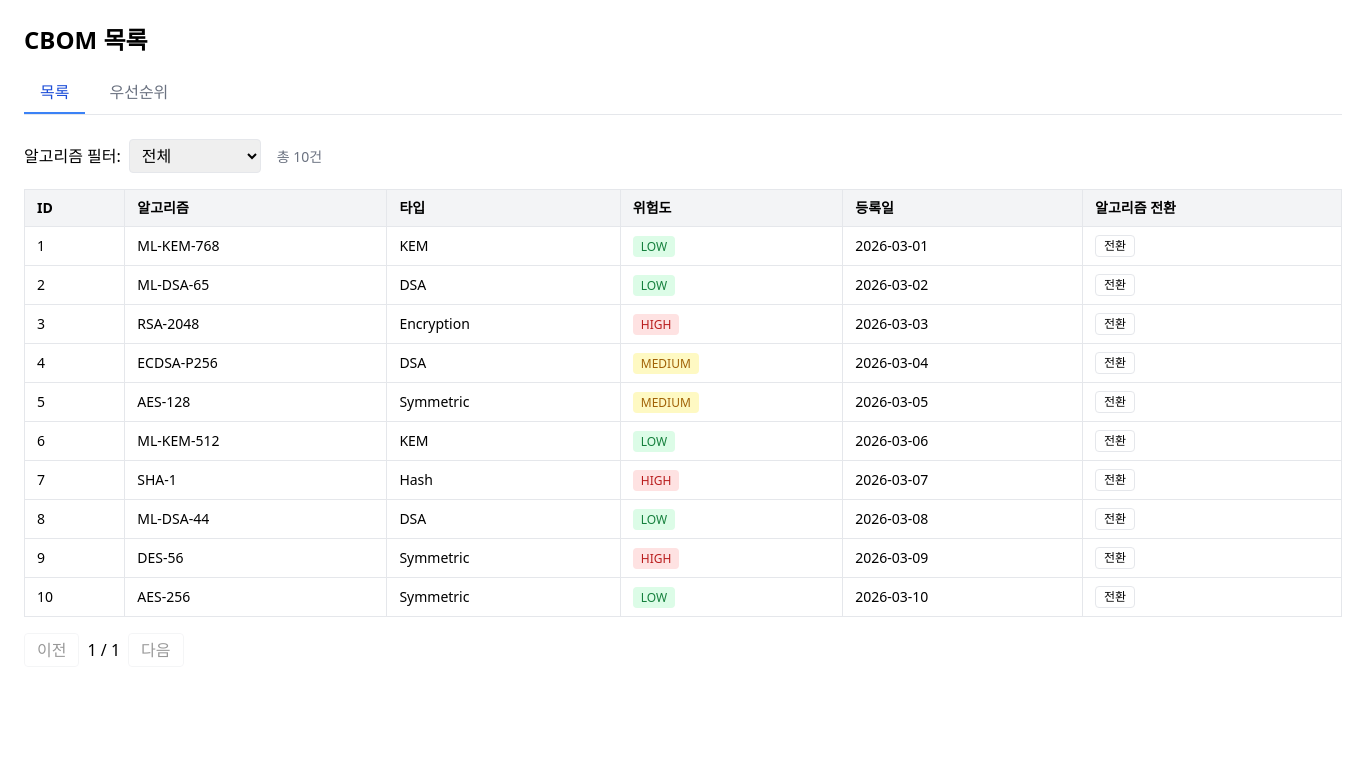
Test: CbomPage › 알고리즘 필터 적용 시 해당 항목만 표시
Expected: the text "총 10건" is shown, 277,147 -> 322,166
Select "ML-KEM-768" in the dropdown: coordinates (195, 156) 129,139 -> 261,173
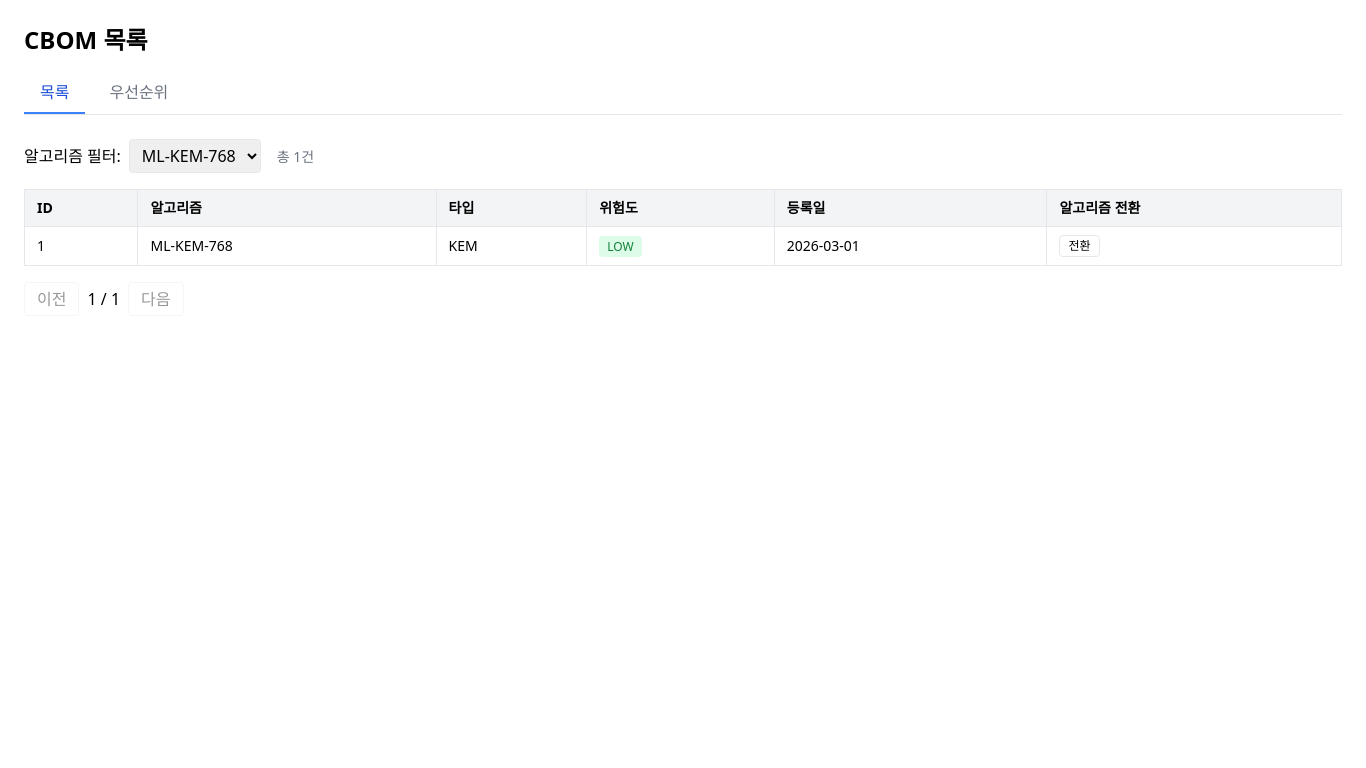
Now the text "총 1건" is shown, box 277,147 -> 314,166
